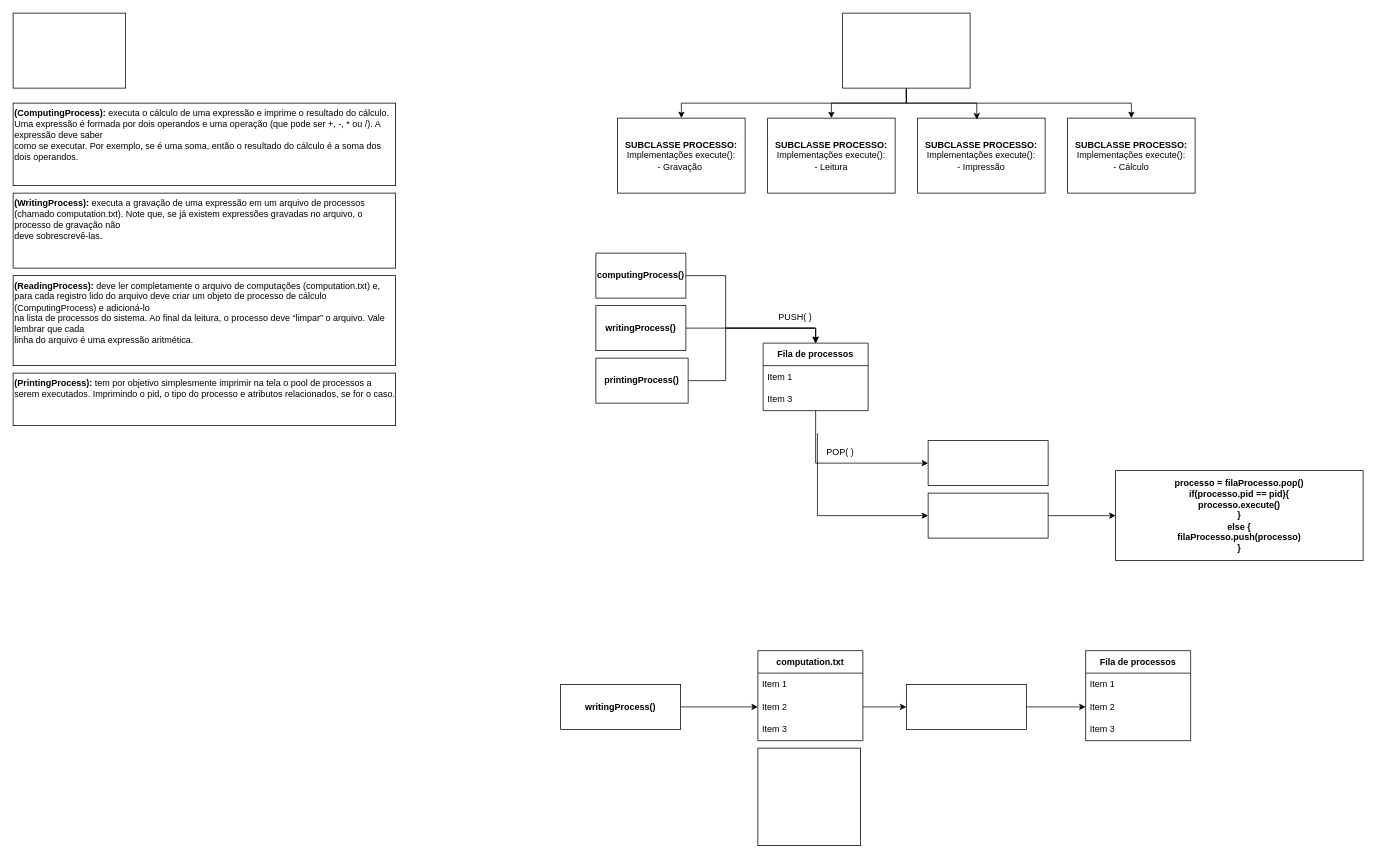
Some shapes in this 1376 by 859 pixel diagram are drawn without their labels. The centre of each missing label's shape, as x and y in pixels:
"computing.txt 1+1 2/2 5*5 5-3" goes at point 809,796.
"readingProcess()" goes at point 966,706.
"SUPERCLASSE PROCESSO: apenas declarações uint32_t pid; int execute( );" goes at point 906,50.
"TIPOS DE PROCESSO: - Gravação - Leitura - Impressão - Cálculo" goes at point 69,50.
"Usuário Execução processos:" goes at point 987,463.
"Usuário: Execução processos (pid):" goes at point 987,515.
